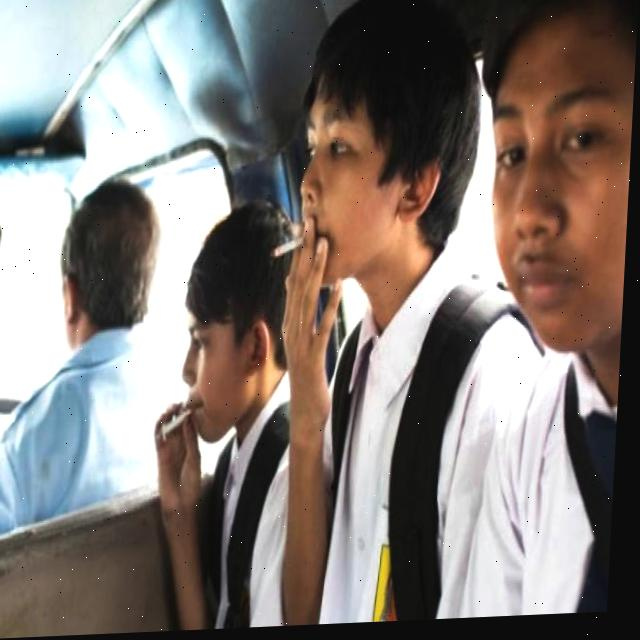cigarette: (162, 410, 197, 439), (274, 239, 308, 262)
